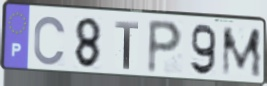8: (73, 16, 104, 71)
9: (189, 23, 218, 77)
C: (32, 14, 68, 67)
M: (220, 27, 264, 79)
P: (145, 17, 185, 77)
T: (114, 19, 140, 71)
